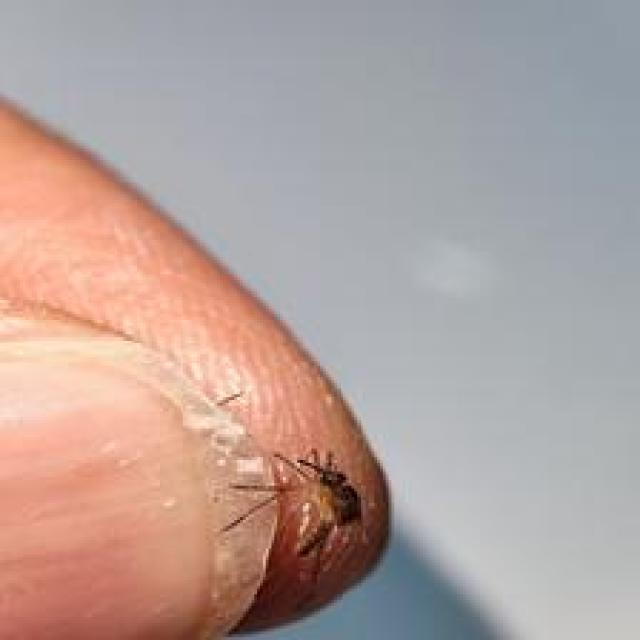Culex: (217, 446, 363, 580)
